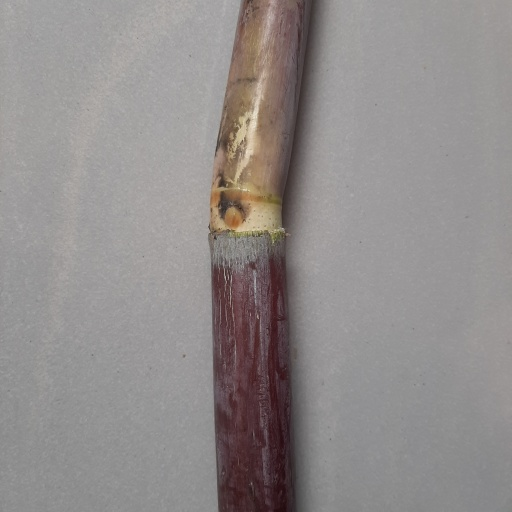Bud: (222, 204, 246, 230)
